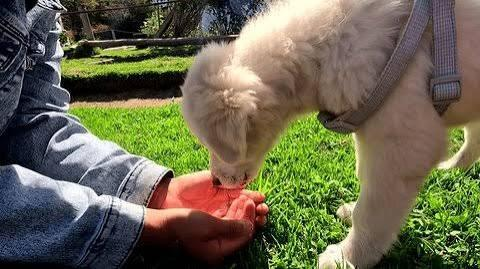non-dog: (0, 0, 272, 269)
puppy-dog: (180, 1, 480, 269)
